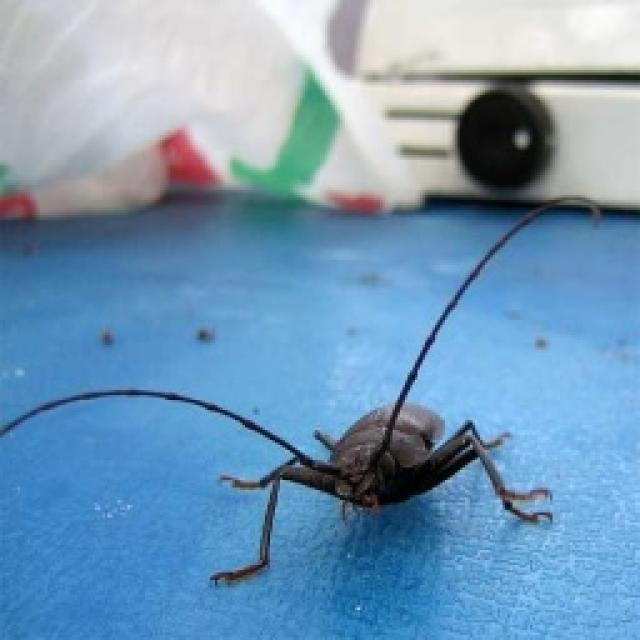cockroach: (197, 345, 556, 628)
